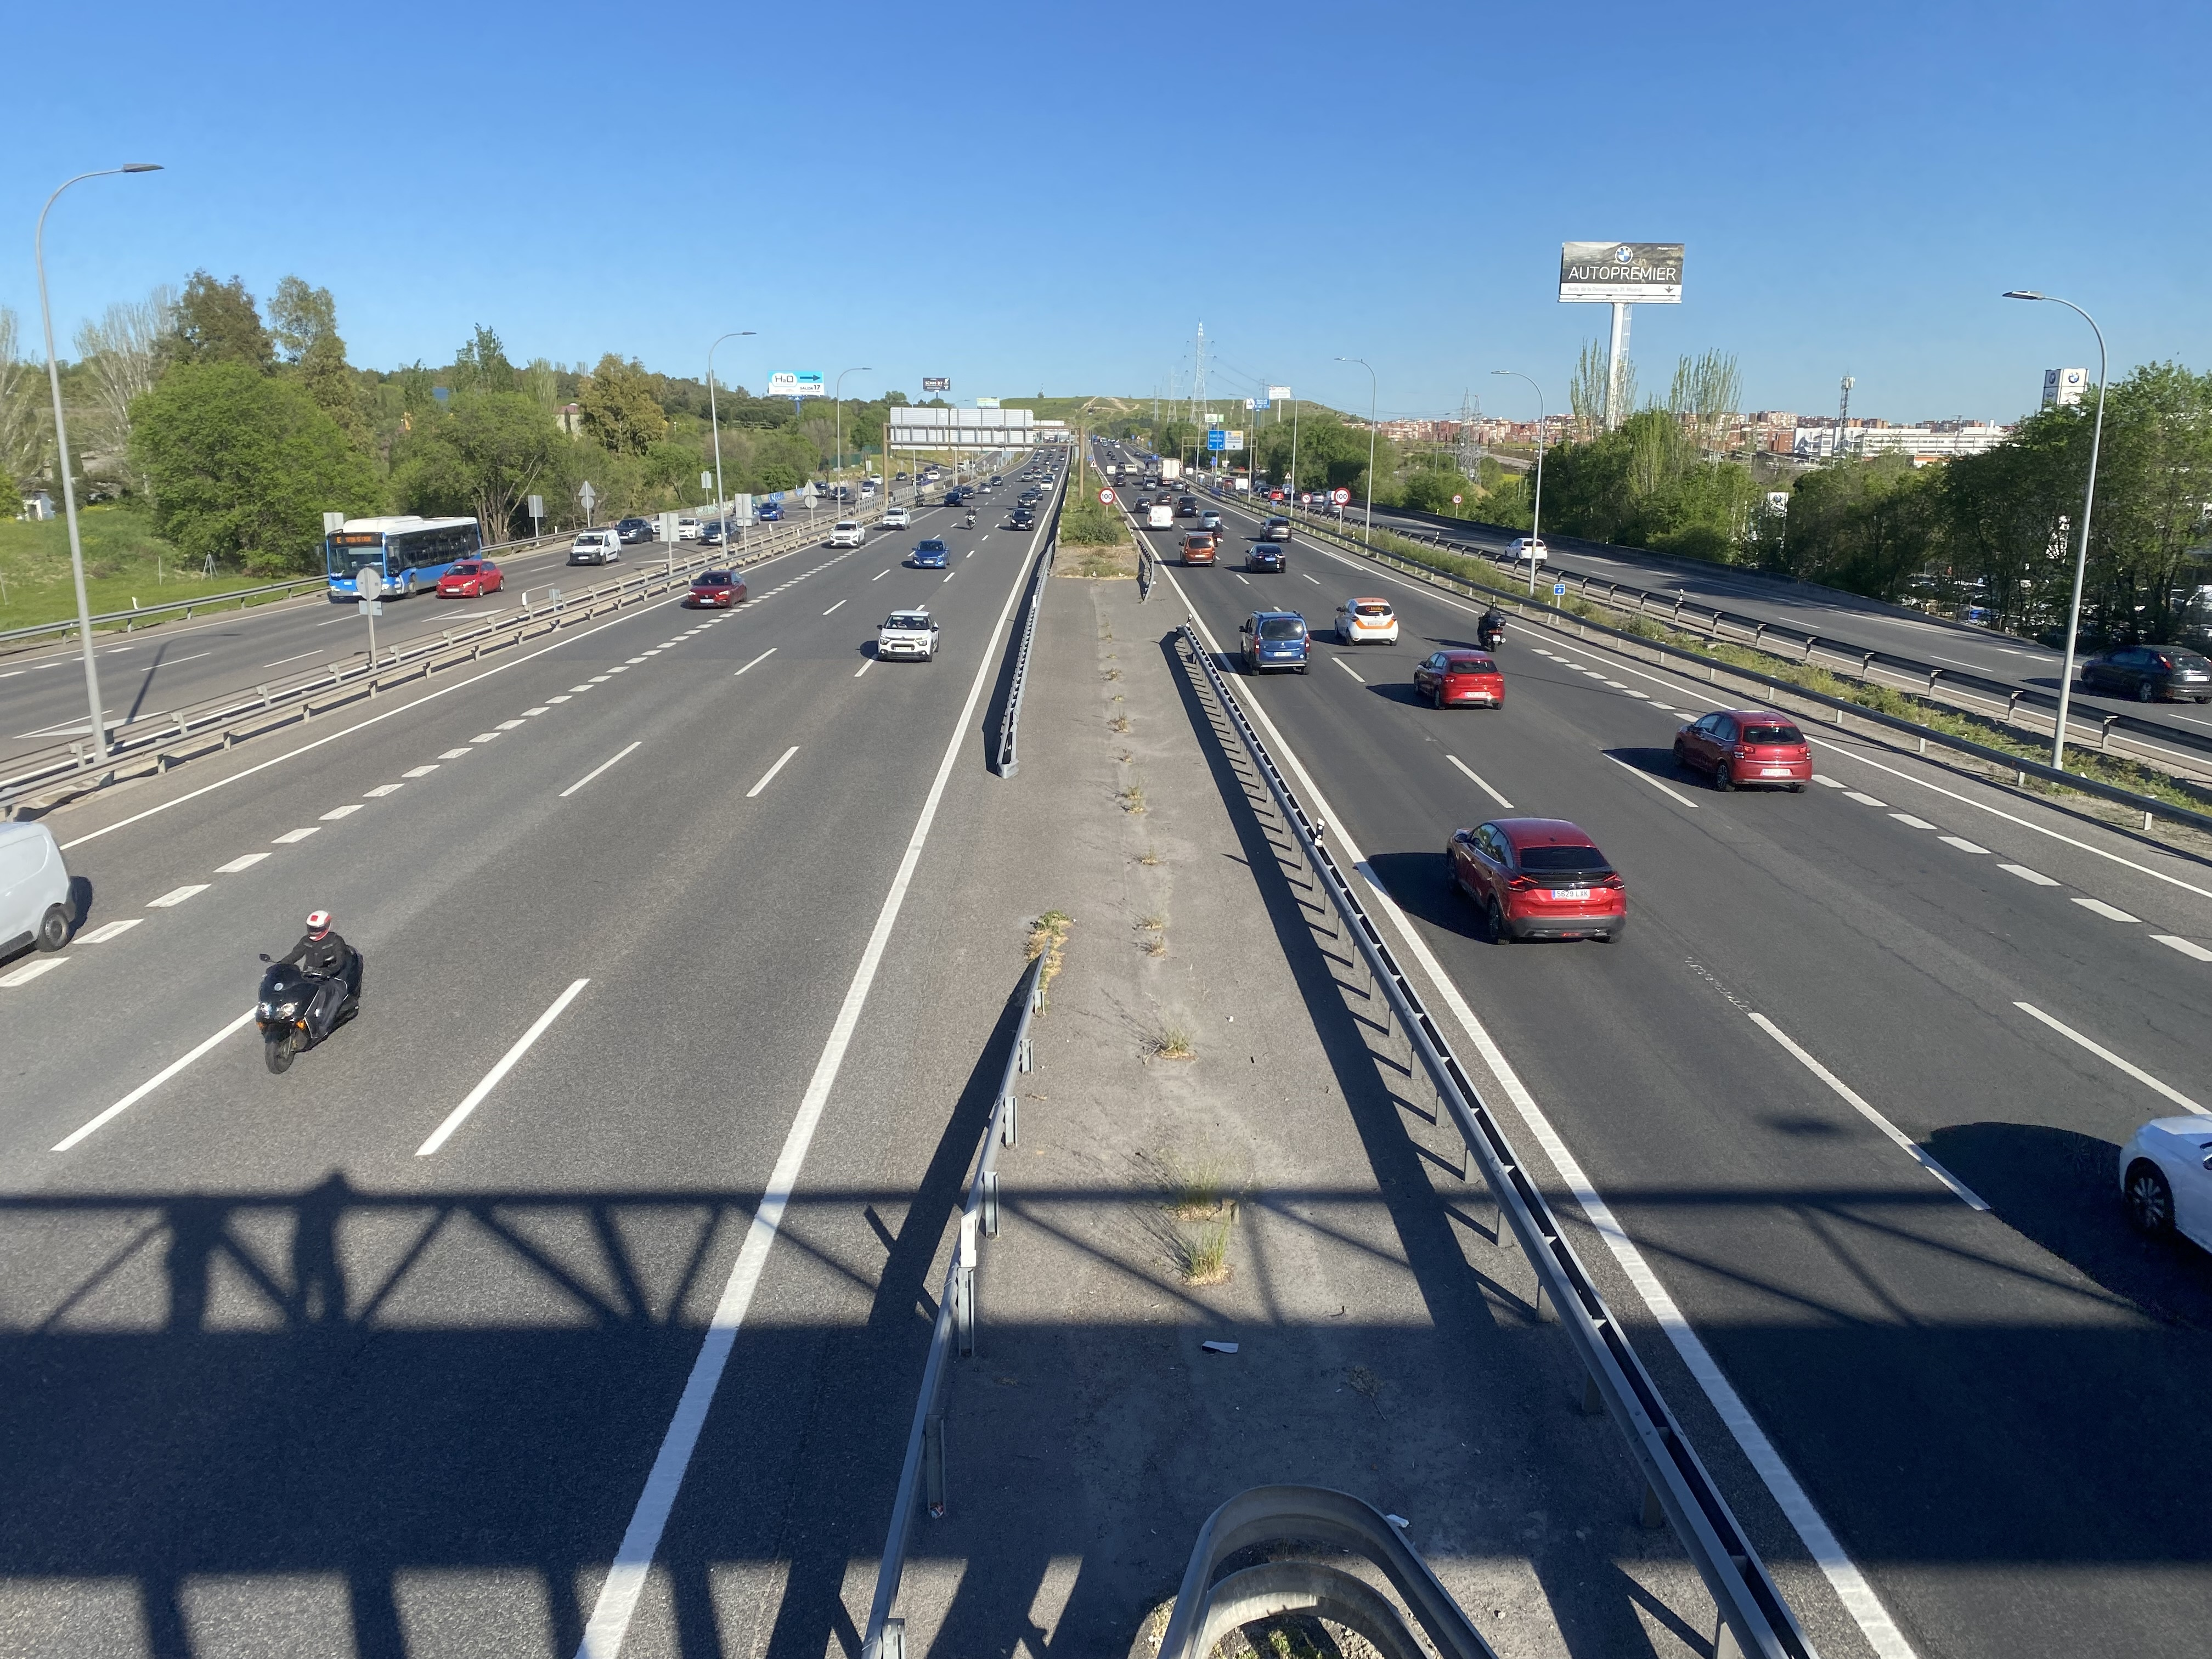cars: (1446, 817, 1627, 941), (2118, 1115, 2212, 1253), (1674, 711, 1811, 791), (0, 821, 75, 955), (2081, 645, 2212, 702), (1413, 650, 1505, 709), (1238, 610, 1308, 673), (878, 608, 939, 660), (1334, 596, 1399, 645), (435, 559, 503, 598), (683, 568, 747, 606), (568, 528, 622, 565), (904, 537, 949, 570), (1498, 537, 1548, 565), (1244, 540, 1285, 573), (1181, 532, 1216, 566), (826, 519, 866, 547), (617, 518, 655, 544), (1144, 502, 1174, 530), (1259, 516, 1291, 542), (878, 505, 911, 528), (756, 495, 784, 521), (1007, 507, 1035, 530), (1174, 493, 1198, 518), (1301, 491, 1329, 512), (1200, 512, 1223, 537), (944, 488, 968, 507), (954, 509, 975, 530), (679, 519, 700, 540)
